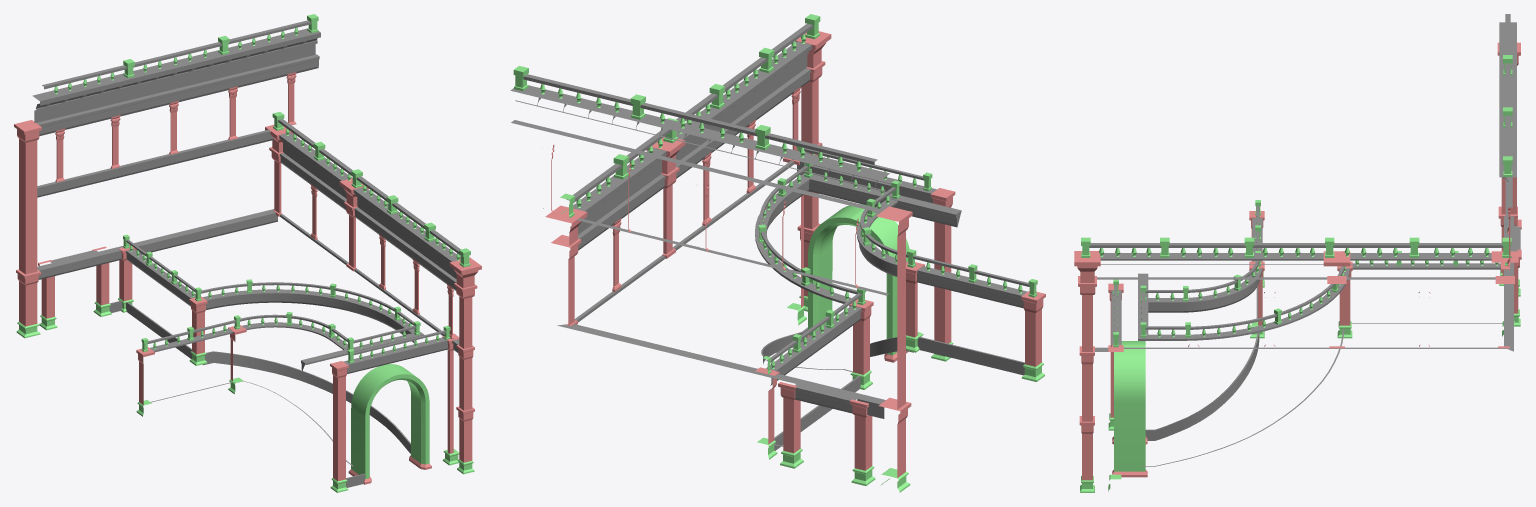
File: S_Envi_Fyz_BuildingMerge_05g.gltf
The picture shows the model from 3 angles, left to right: view 1: azimuth 30°, elevation 25°; view 2: azimuth 150°, elevation 25°; view 3: azimuth 270°, elevation 25°; orthographic projection. The views are drawn at different scales.
Visible parts, largest first — view 1: S_Envi_Fyz_BuildingMerge_05g; view 2: S_Envi_Fyz_BuildingMerge_05g; view 3: S_Envi_Fyz_BuildingMerge_05g.
Boxes of the visible parts, bbox=[...] form: S_Envi_Fyz_BuildingMerge_05g: bbox=[14, 14, 481, 492]; S_Envi_Fyz_BuildingMerge_05g: bbox=[510, 14, 1045, 492]; S_Envi_Fyz_BuildingMerge_05g: bbox=[1074, 14, 1521, 492].
Bounding box in the file's own units: 25.38 × 25.18 × 29.15.
